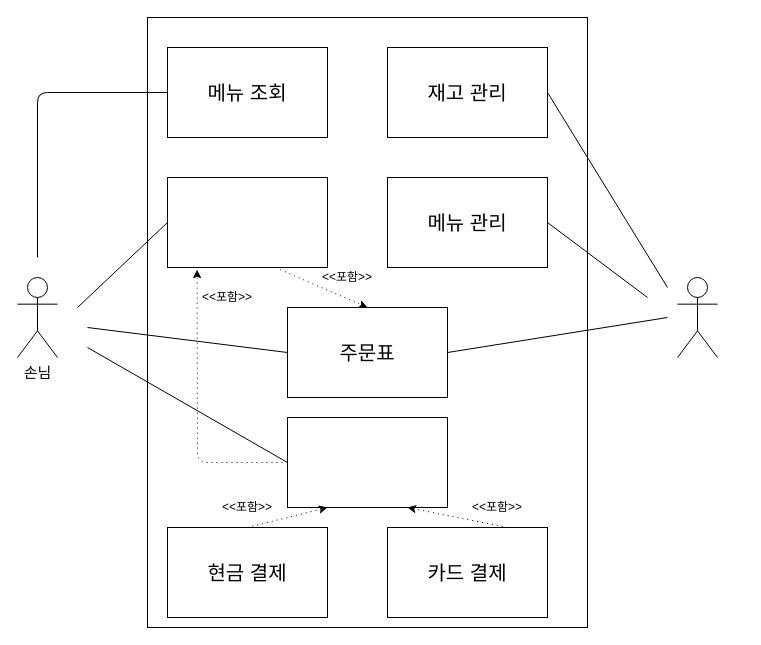
This 761x645 diagram has some shape labels left out. Here are the shapes that lost their labels. From the top down, the centre of each, then its label:
At (x=247, y=222): "주문을 한다".
At (x=697, y=317): "주인장(관리자)".
At (x=367, y=462): "결제를 한다".
